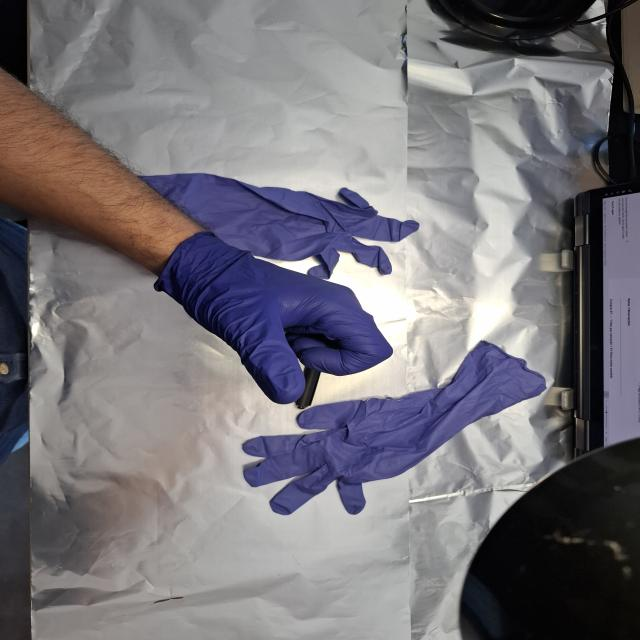glove_on: (152, 228, 398, 406)
